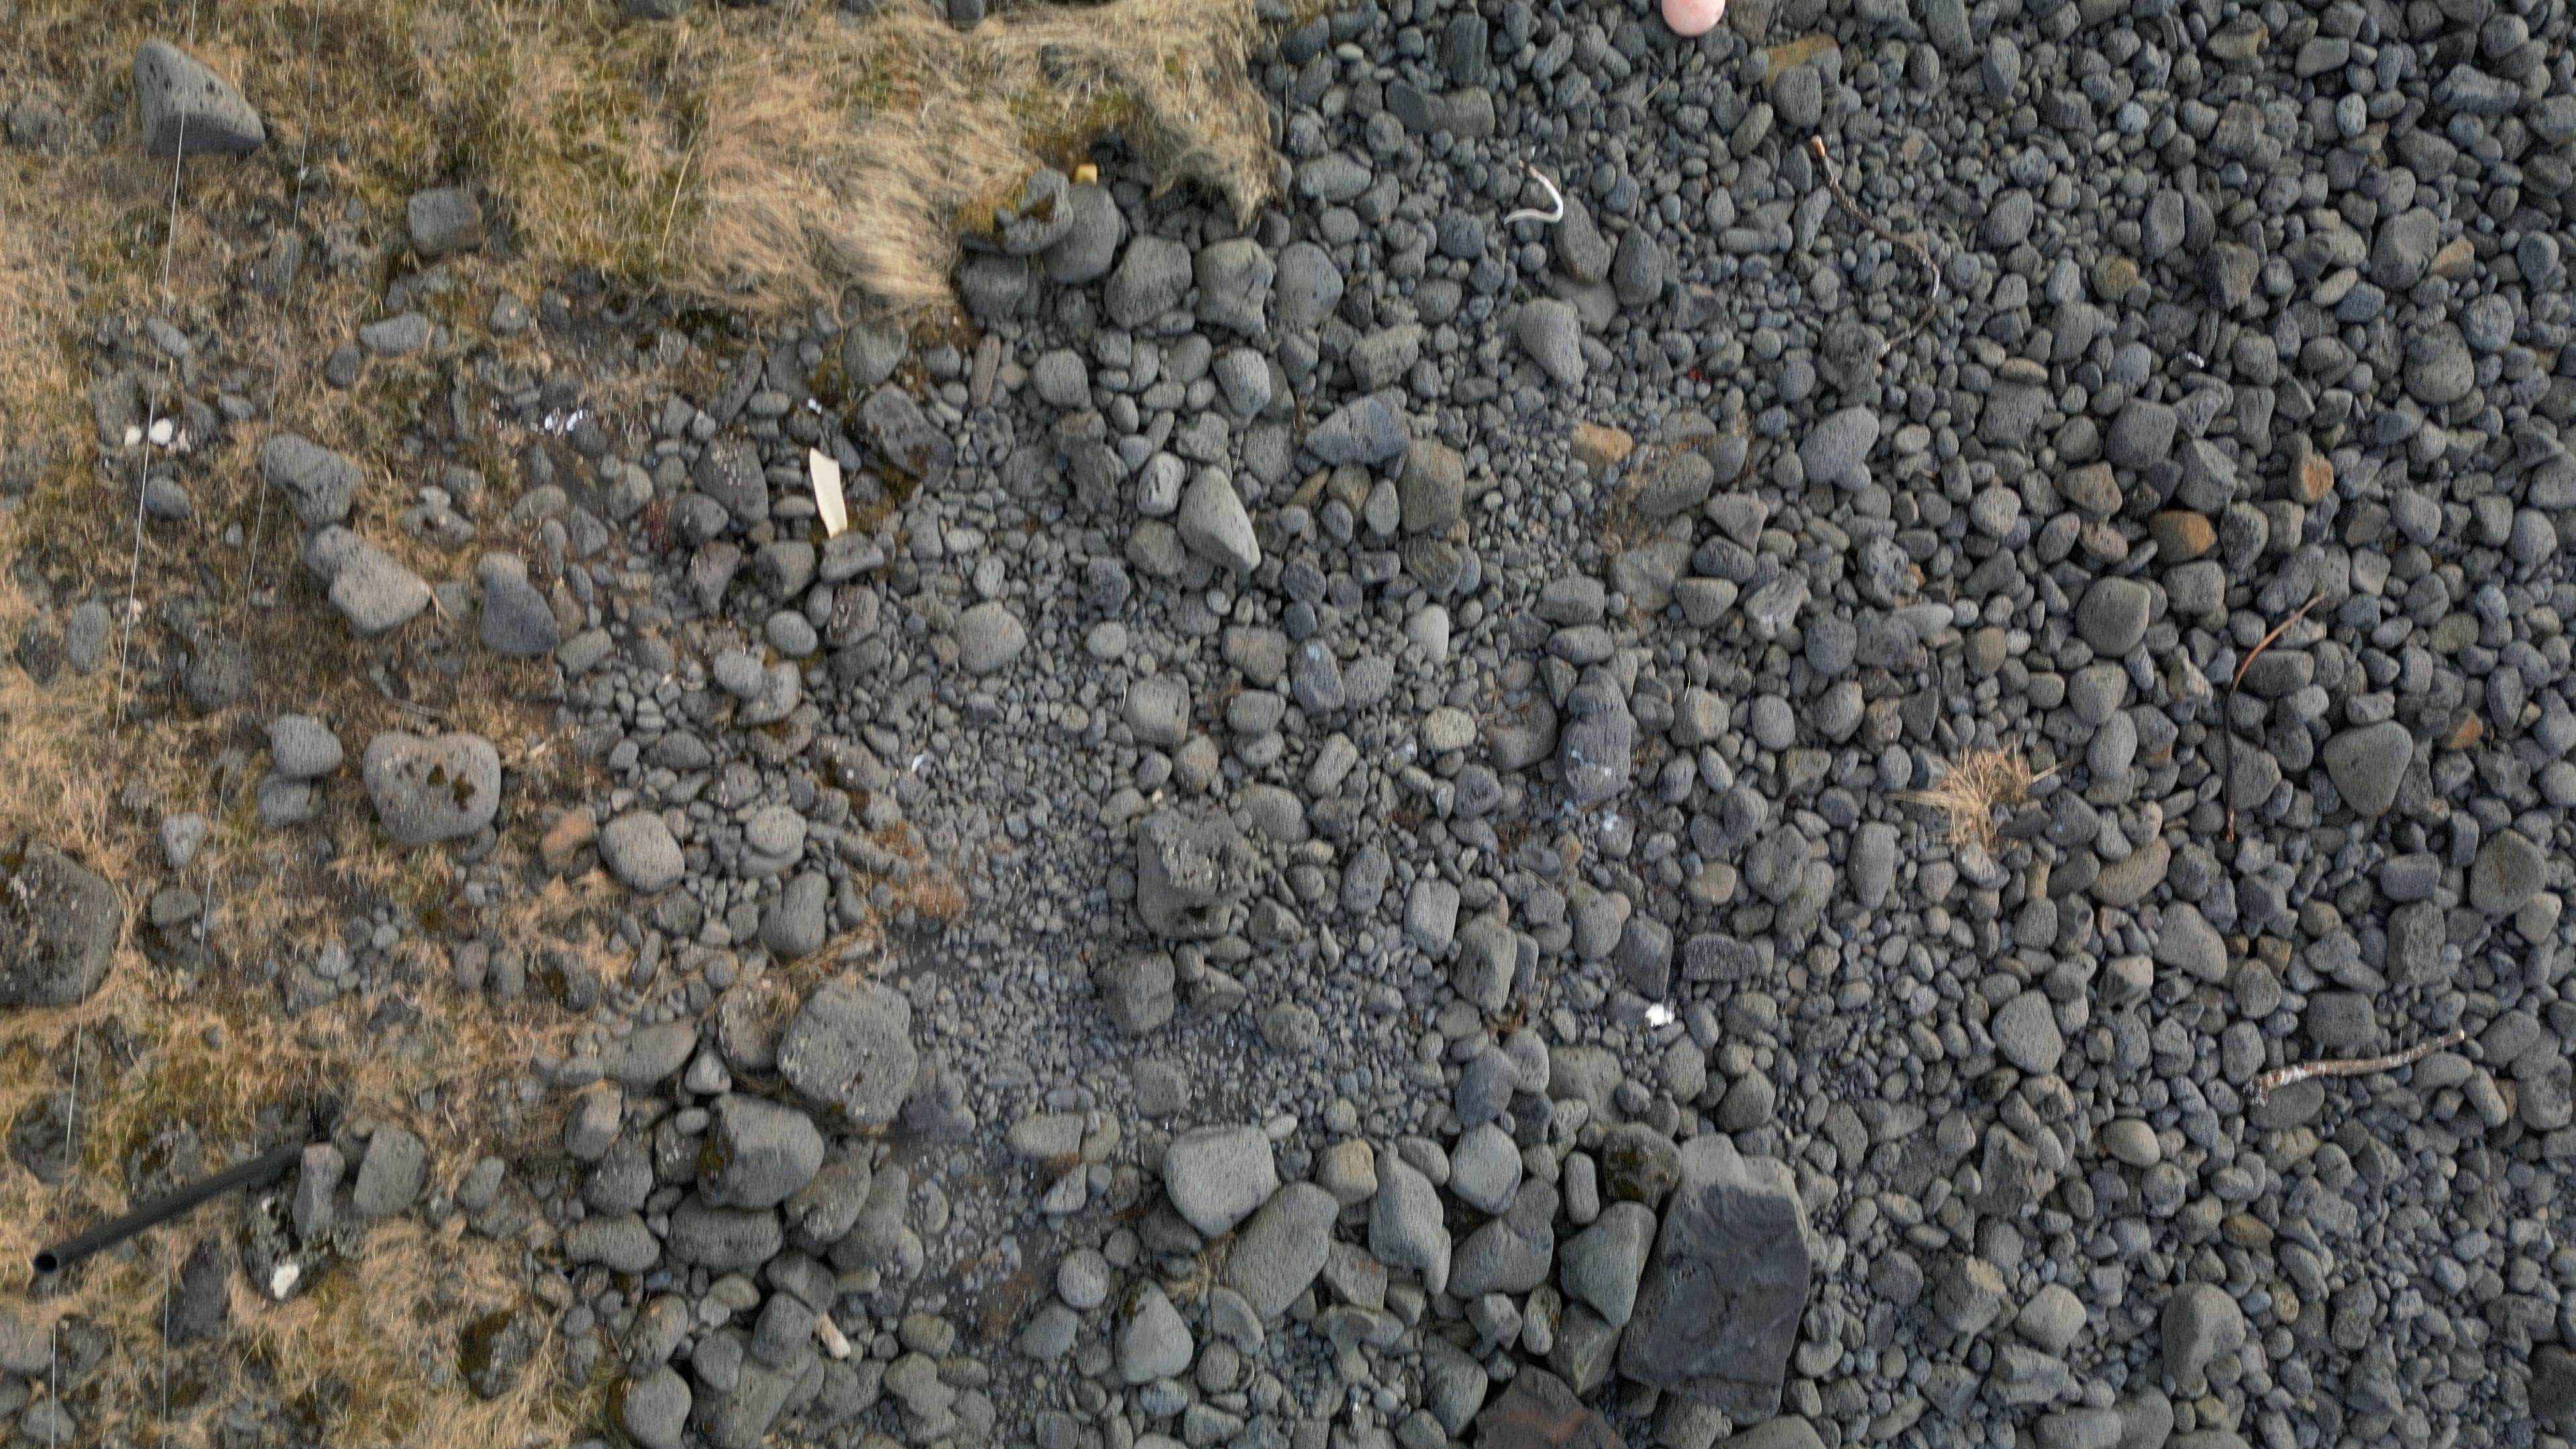trash: (810, 448, 851, 538), (1660, 0, 1725, 35)
